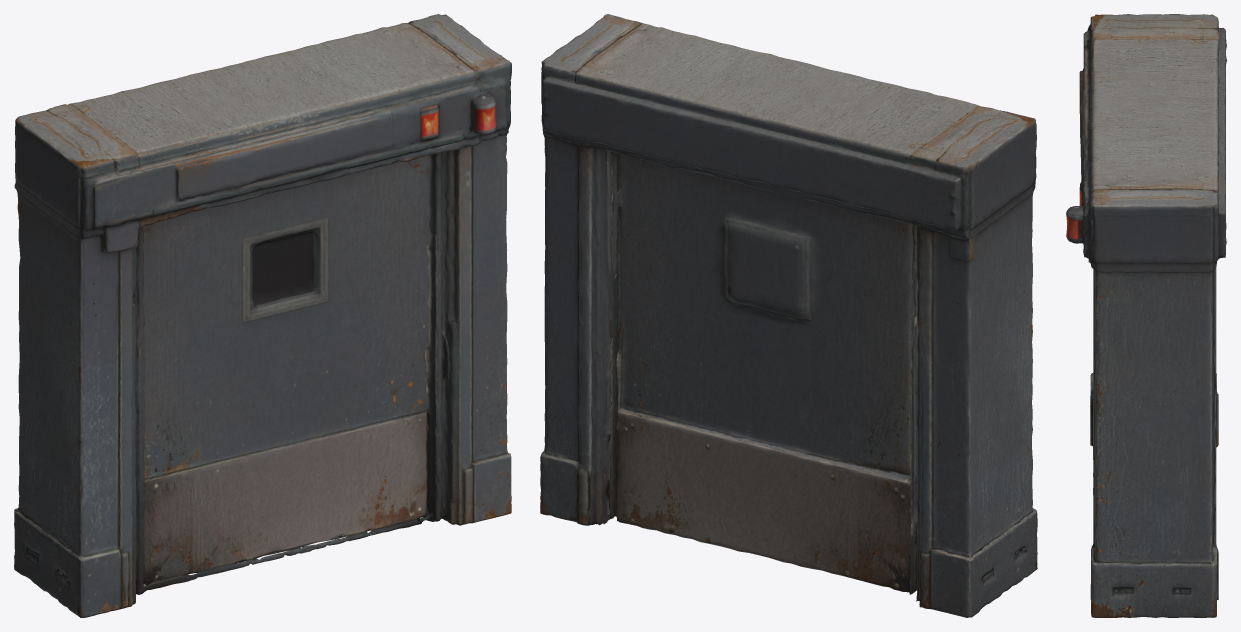
File: SlidingDoor.glb
3 renders of one model, left to right at view 1: azimuth 30°, elevation 25°; view 2: azimuth 150°, elevation 25°; view 3: azimuth 270°, elevation 25°, orthographic. The views are drawn at different scales.
Parts seen in each view (by area): view 1: texture_mapping; view 2: texture_mapping; view 3: texture_mapping.
Boxes of the visible parts, x1,y1,x2,y2 form: texture_mapping: (14, 14, 511, 617); texture_mapping: (540, 14, 1037, 617); texture_mapping: (1066, 14, 1226, 617).
Bounding box in the file's own units: 0.9797 × 0.9871 × 0.3456.
1 material, 1 textured.
